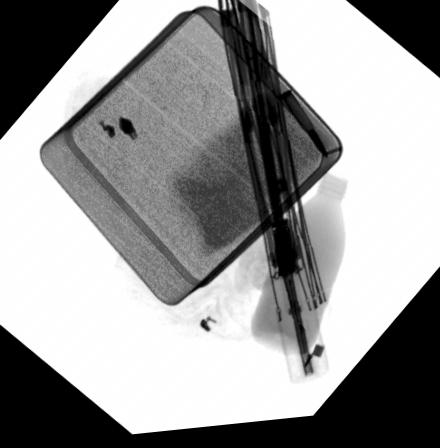Bullet: (271, 220, 295, 283)
